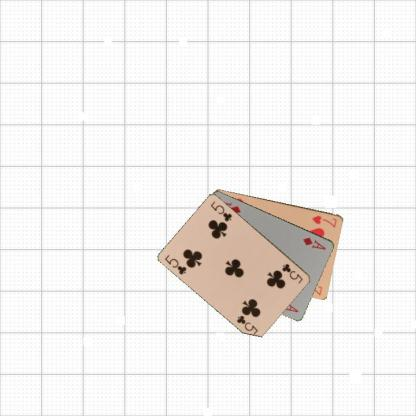5c: (162, 252, 188, 276), (280, 261, 304, 285)
7h: (310, 212, 338, 228)
Ad: (300, 234, 327, 250)
